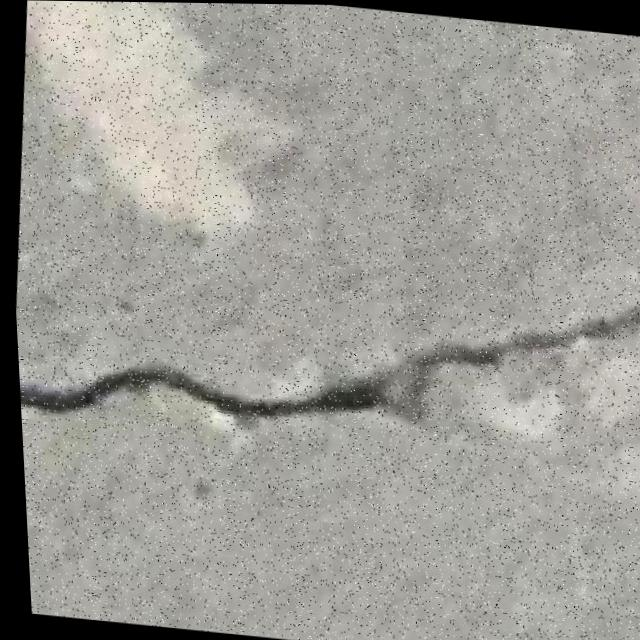Crack: (9, 218, 640, 487)
